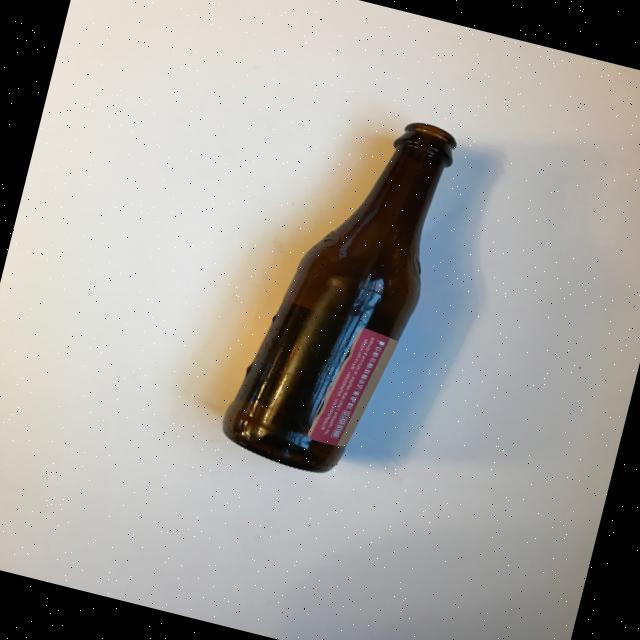glass: (214, 91, 462, 488)
